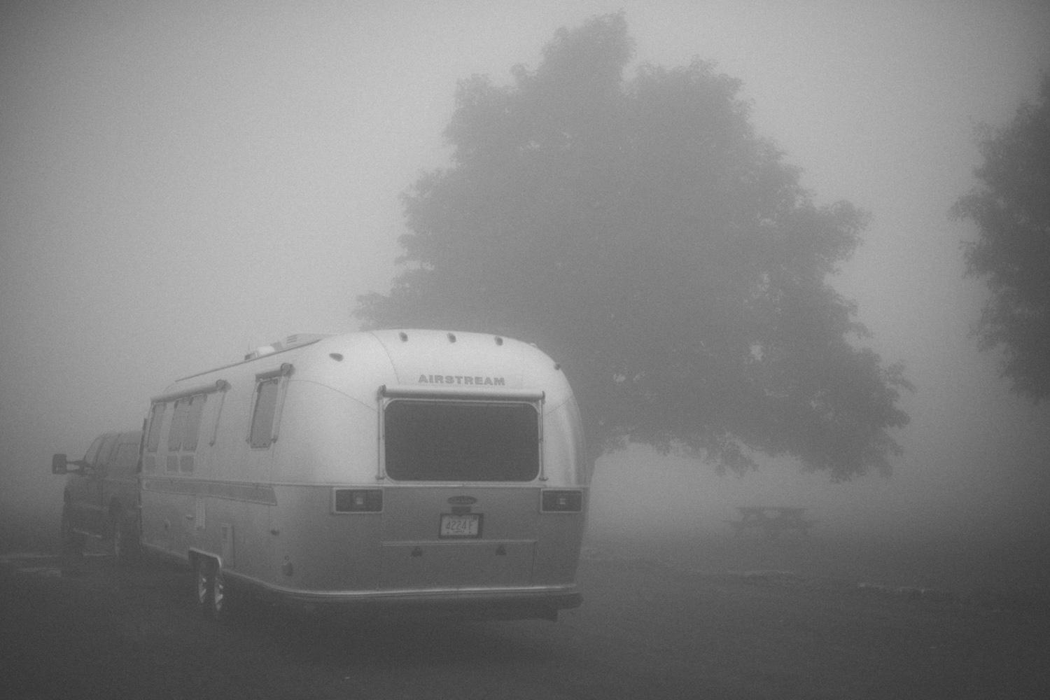bus: (49, 324, 588, 635)
